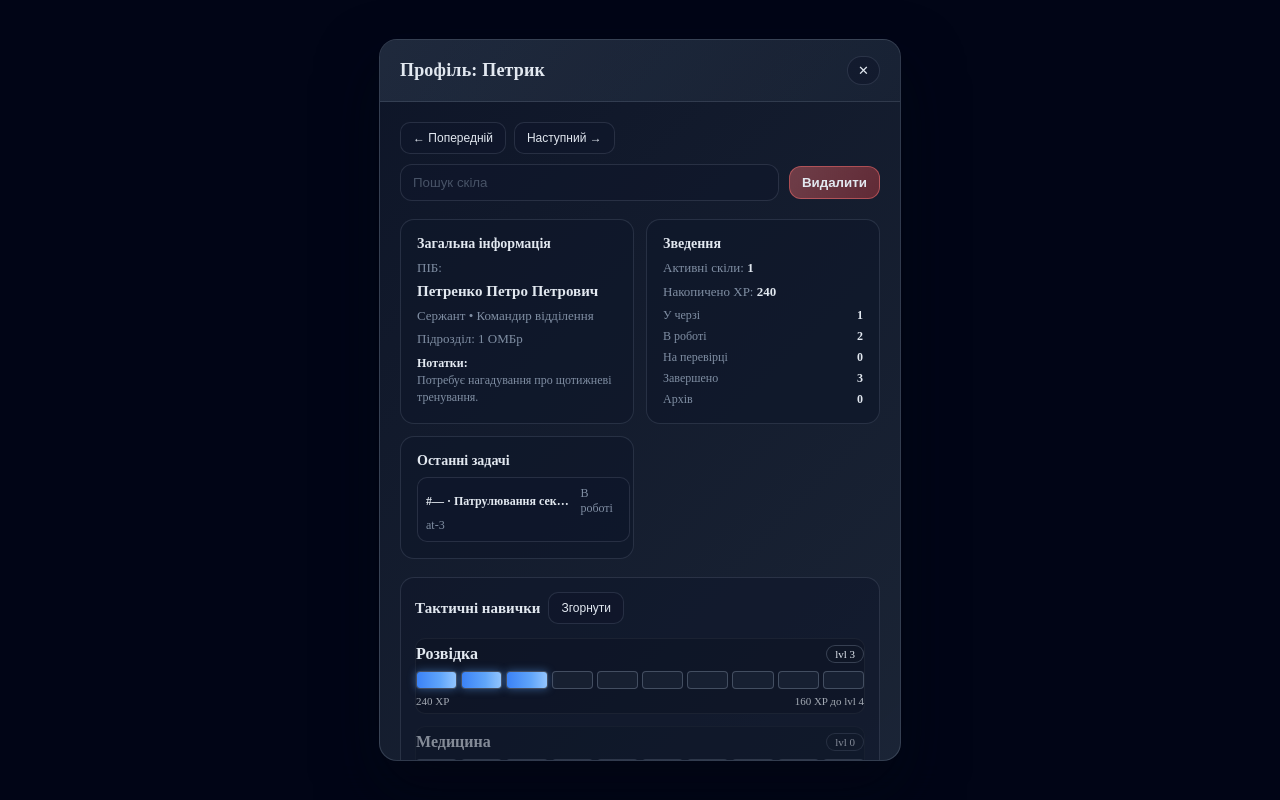
FighterProfileModal › renders fighter profile details and toggles category collapse
expect the text "Профіль: Петрик" is shown: met, box [400, 60, 545, 80]
expect the text "Загальна інформація" is shown: met, box [417, 236, 551, 251]
Click the button "Згорнути": (586, 608) [548, 592, 624, 624]
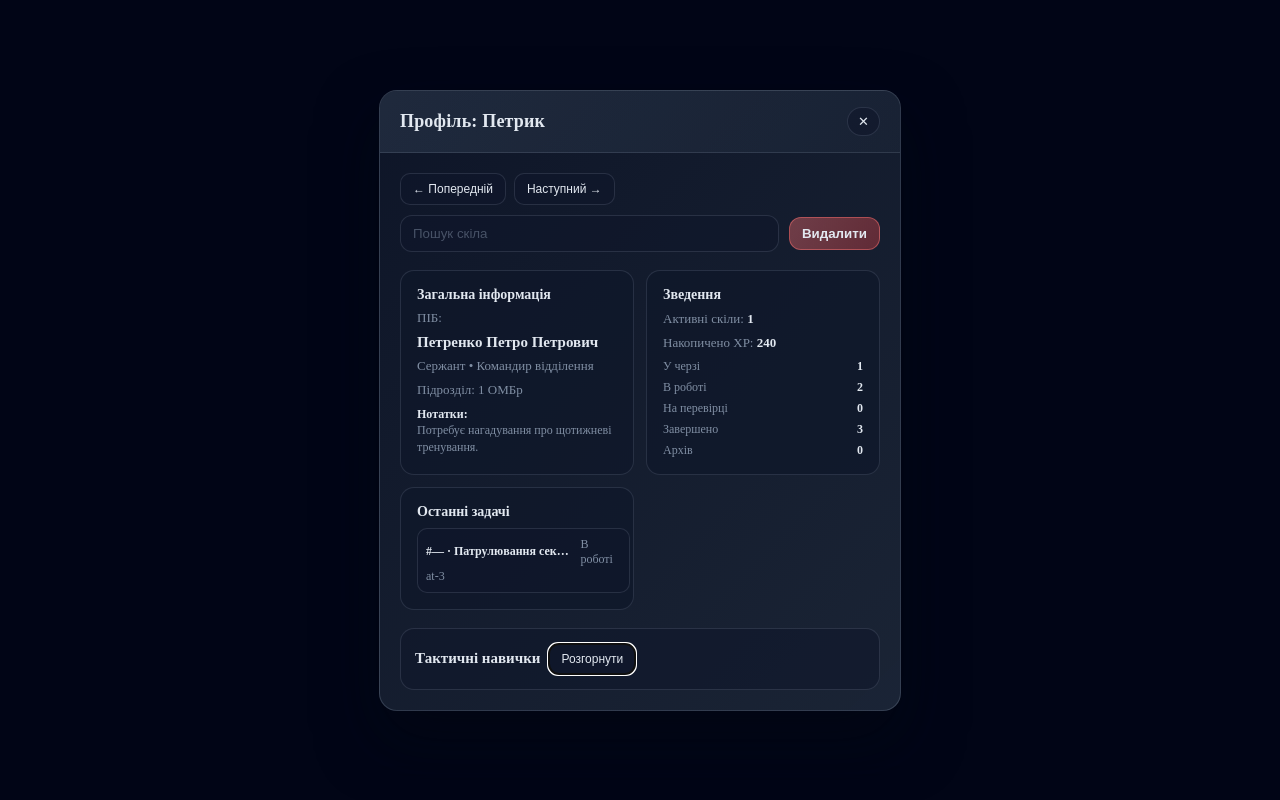
expect the button "Розгорнути" is shown: met
expect the text "Розвідка" is gone: met
Click the button "Розгорнути": (592, 658) [548, 642, 636, 674]
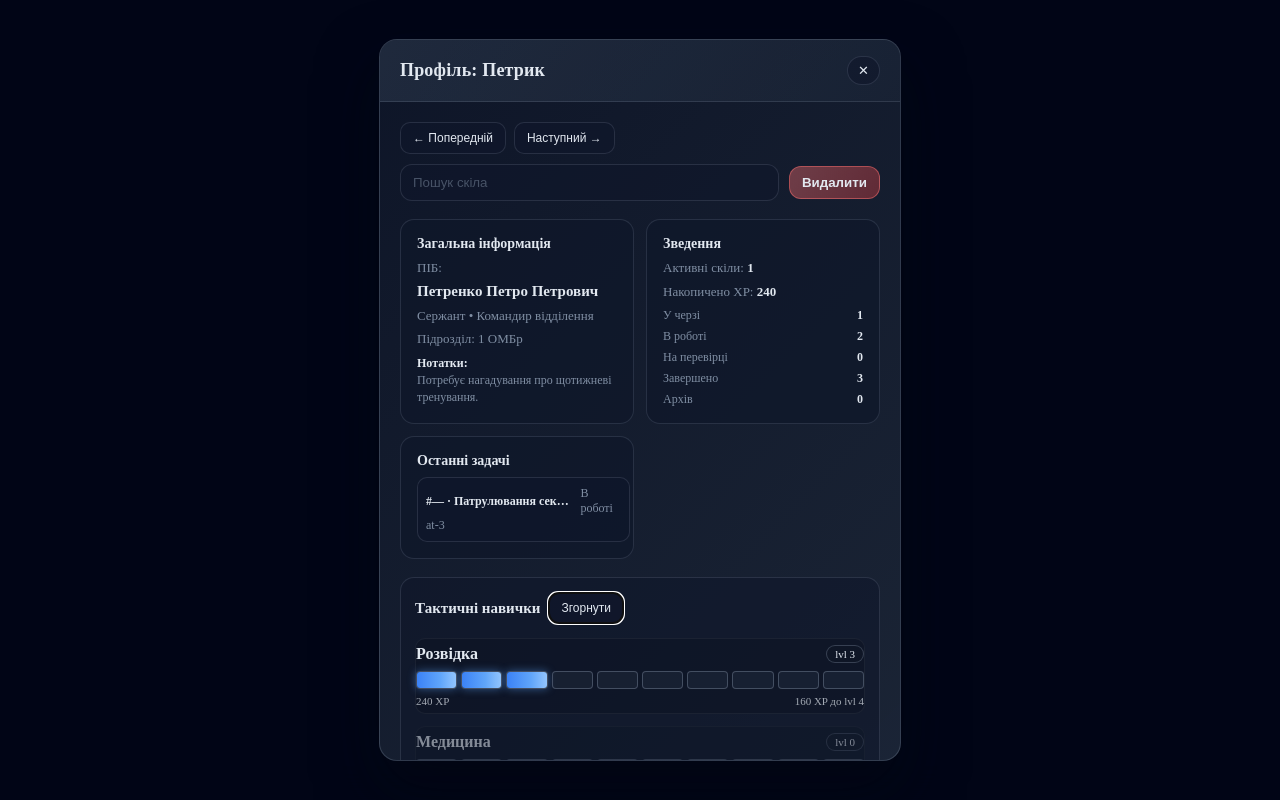
expect the text "Розвідка" is shown: met, box [416, 645, 478, 662]
